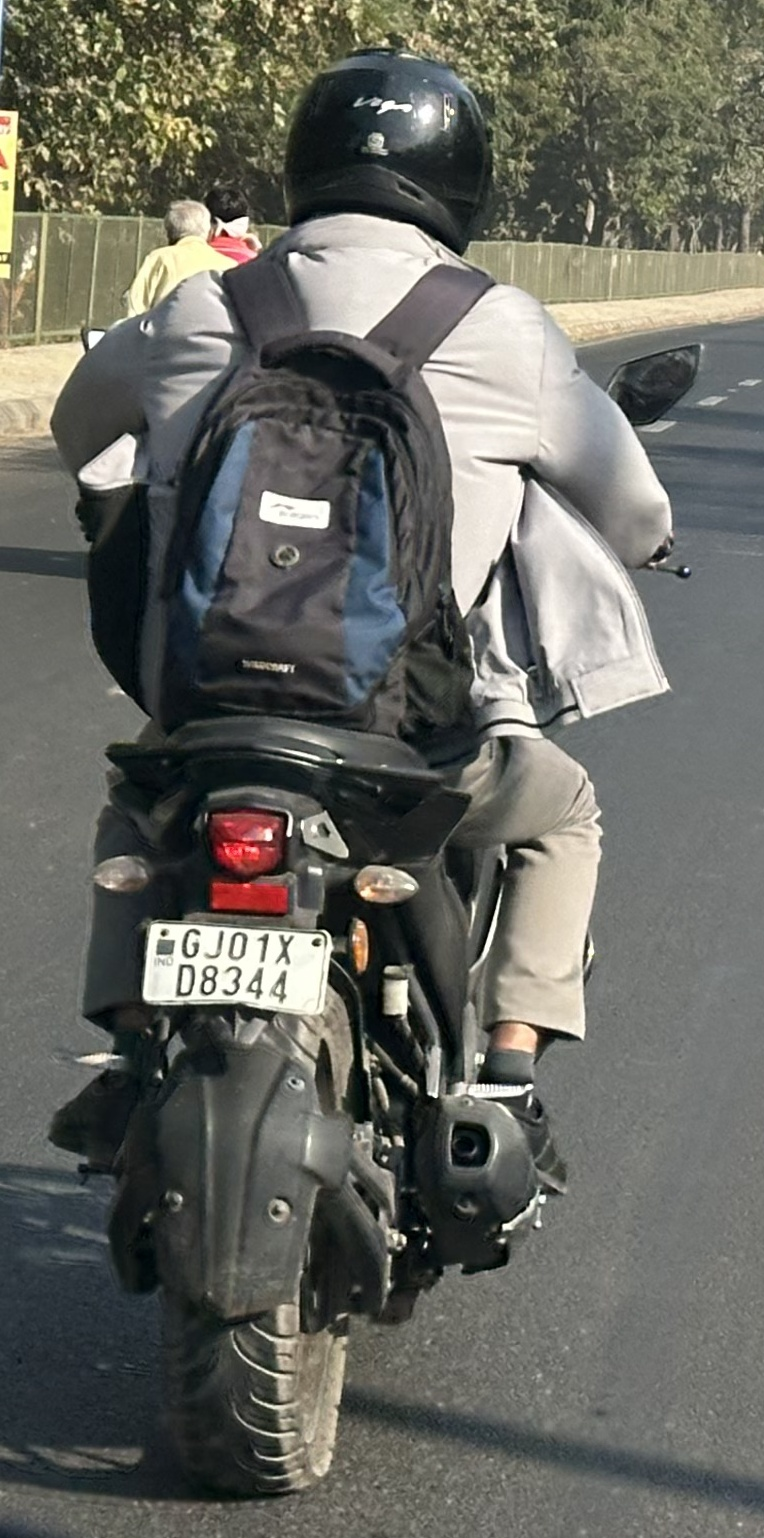BikeWithRider: (30, 30, 710, 1506)
Helmet: (257, 30, 522, 280)
